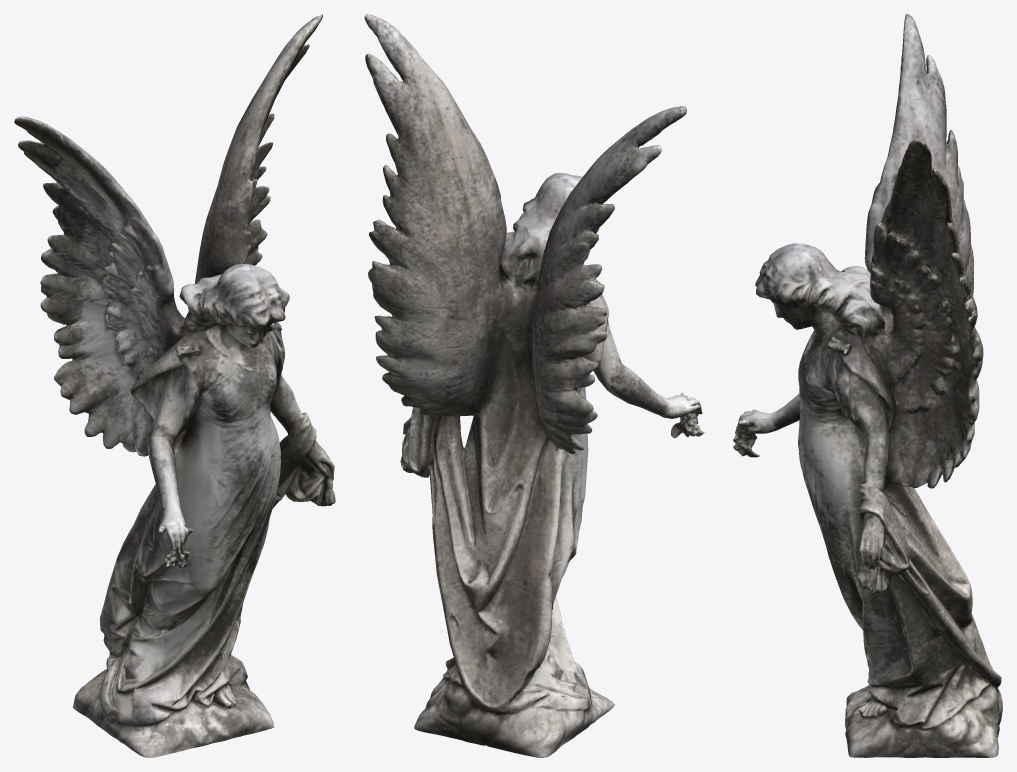
Rendered from engel.glb.
3 renders of one model, left to right at view 1: azimuth 30°, elevation 25°; view 2: azimuth 150°, elevation 25°; view 3: azimuth 270°, elevation 25°, orthographic.
Visible parts, largest first — view 1: Object_2; view 2: Object_2; view 3: Object_2.
Part boxes in pixels (bbox=[...]): Object_2: bbox=[14, 14, 335, 757]; Object_2: bbox=[364, 14, 704, 757]; Object_2: bbox=[733, 14, 1002, 757].
Bounding box in the file's own units: 1.2 × 2.42 × 0.9001.
2 materials, 1 textured.
